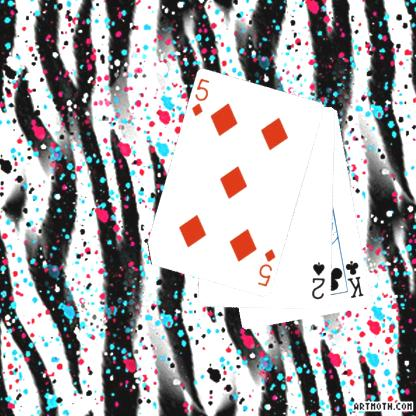2S: (309, 259, 327, 301)
5D: (255, 246, 277, 288), (189, 76, 211, 118)
KC: (338, 256, 365, 300)
